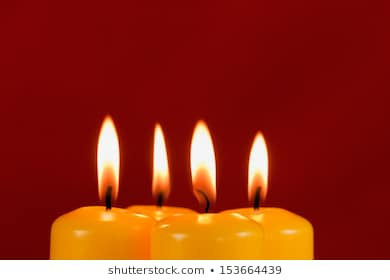Fire: (91, 114, 122, 211), (187, 119, 218, 212), (148, 117, 170, 213), (247, 128, 271, 204)
